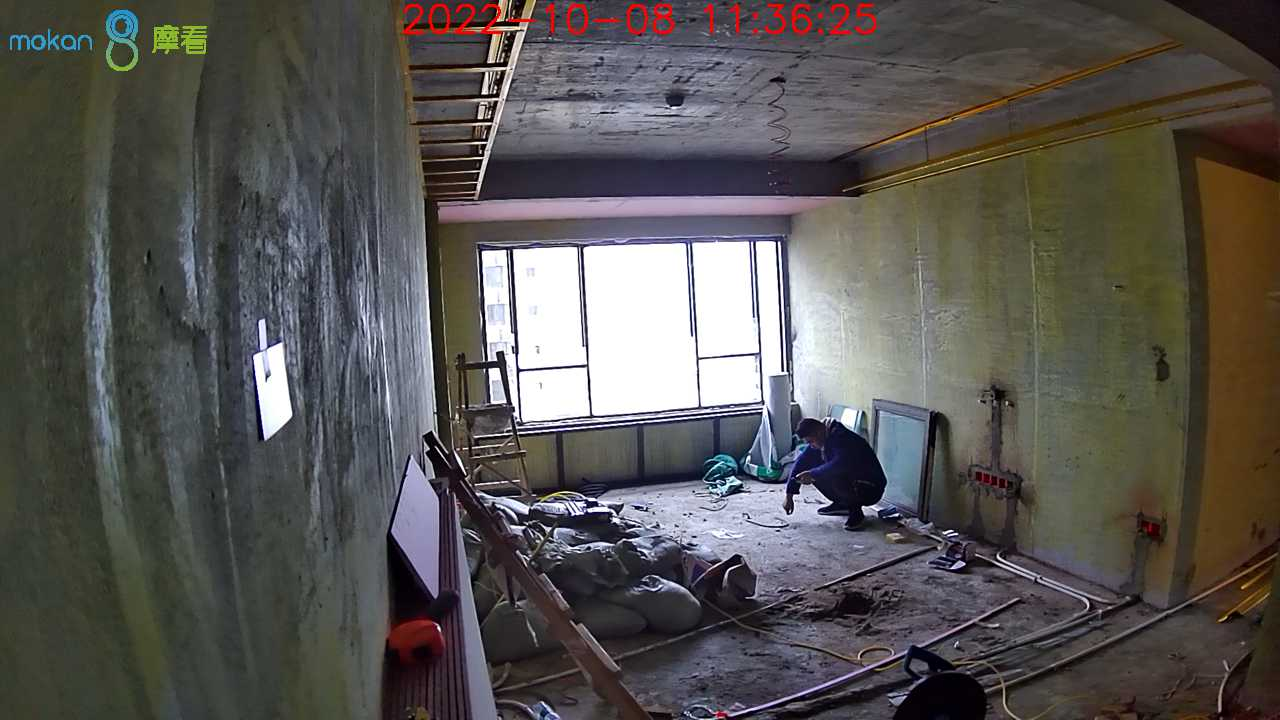people: (778, 417, 890, 532)
window: (476, 240, 779, 416)
